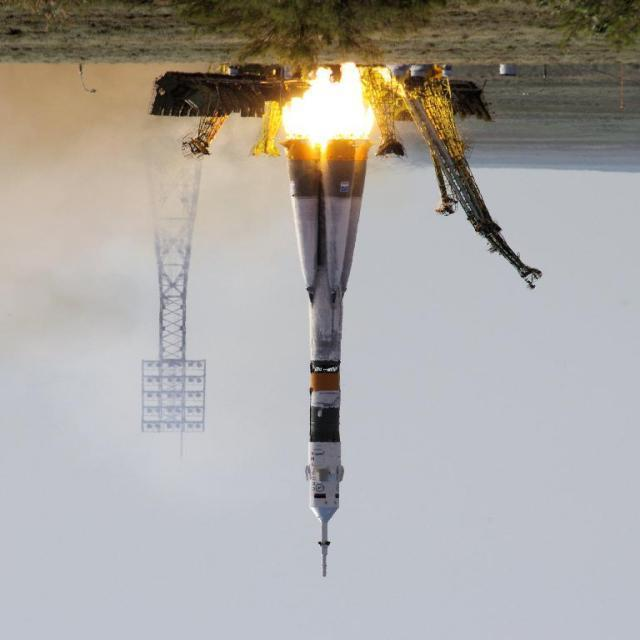missile: (279, 292, 368, 528)
